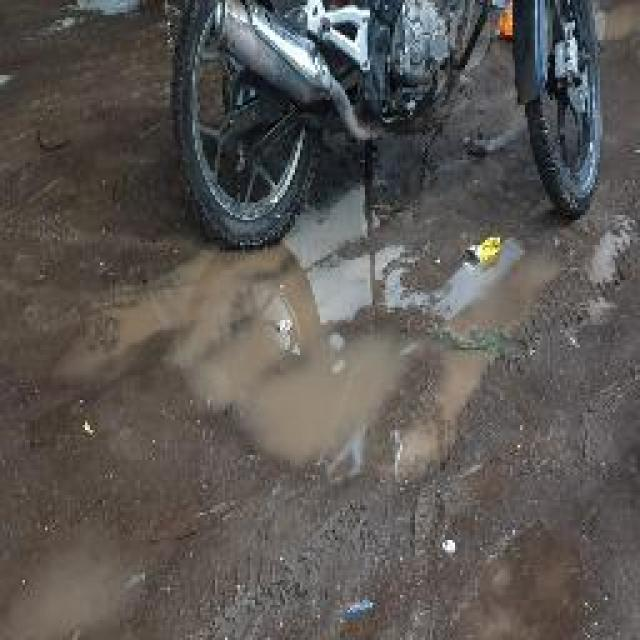stagnation: (176, 232, 474, 482)
